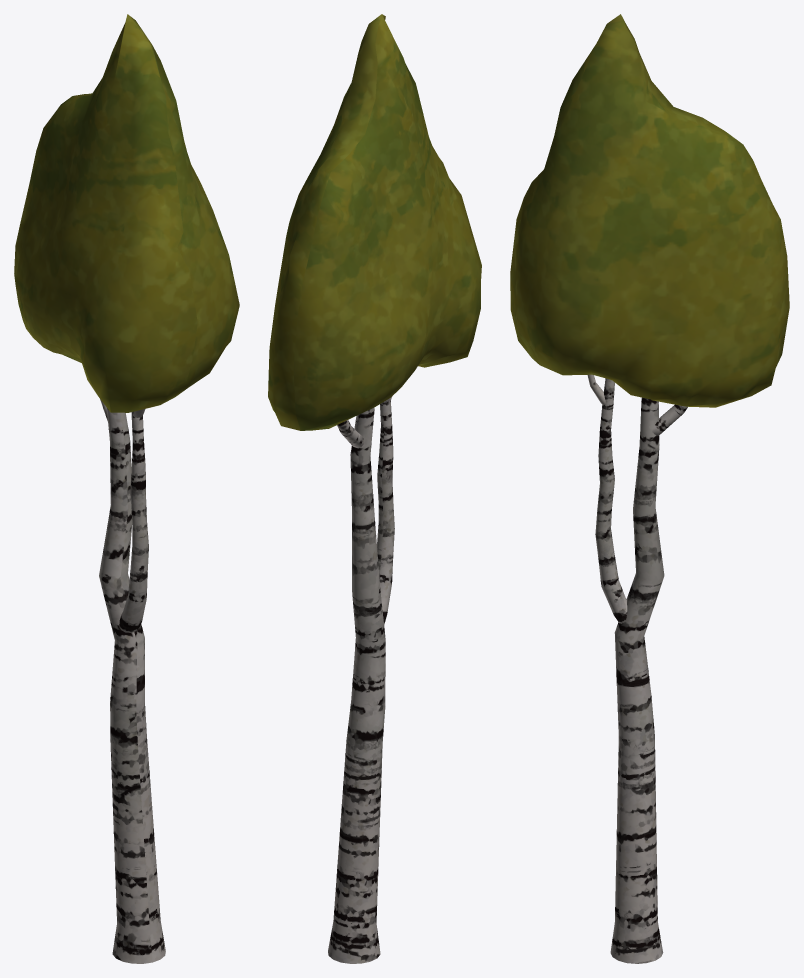
Rendered from Sm_BirchTree3.fbx.
3 views of the same model, side by side, from view 1: azimuth 30°, elevation 25°; view 2: azimuth 150°, elevation 25°; view 3: azimuth 270°, elevation 25° (orthographic). The views are drawn at different scales.
Parts seen in each view (by area): view 1: Sm_BirchTree3; view 2: Sm_BirchTree3; view 3: Sm_BirchTree3.
Boxes of the visible parts, x1,y1,x2,y2 form: Sm_BirchTree3: (14, 14, 239, 963); Sm_BirchTree3: (268, 14, 481, 963); Sm_BirchTree3: (510, 14, 789, 963).
Size of the model in its own units: 132 by 774 by 211.
